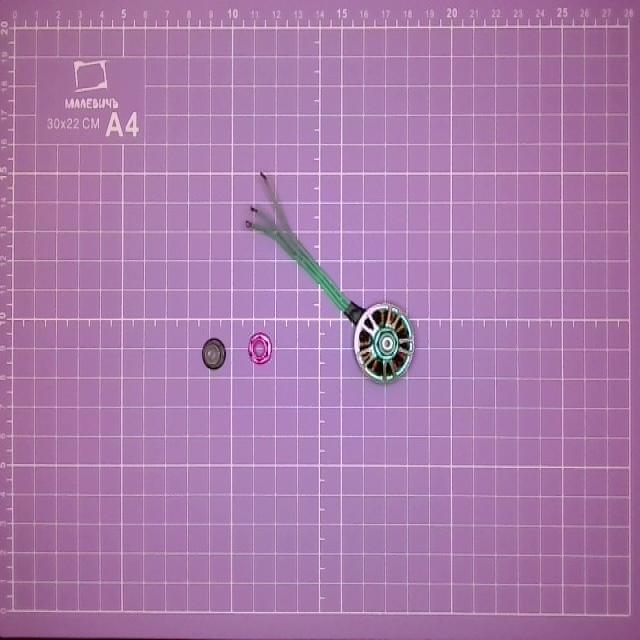motor: (246, 171, 420, 386)
screw_M5: (199, 335, 230, 374), (244, 332, 274, 368)
